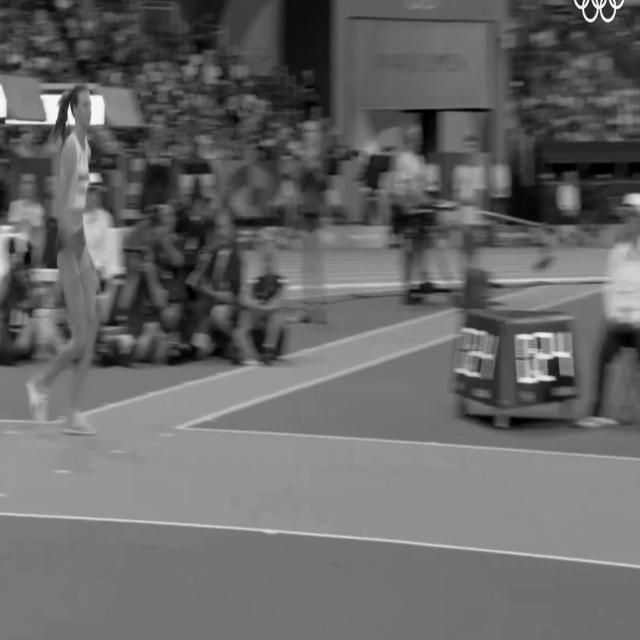run: (28, 86, 96, 434)
